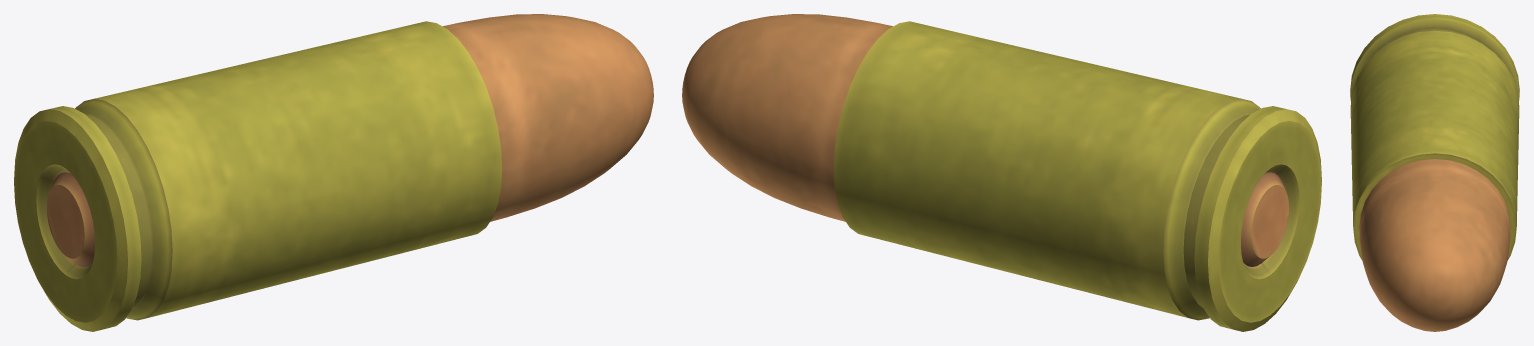
The model's file is dan1.fbx.
The picture shows the model from 3 angles, left to right: view 1: azimuth 30°, elevation 25°; view 2: azimuth 150°, elevation 25°; view 3: azimuth 270°, elevation 25°; orthographic projection. The views are drawn at different scales.
Parts seen in each view (by area): view 1: Bullet; view 2: Bullet; view 3: Bullet.
Part boxes in pixels (bbox=[...]): Bullet: bbox=[14, 14, 653, 331]; Bullet: bbox=[682, 14, 1321, 331]; Bullet: bbox=[1350, 14, 1519, 331].
Bounding box in the file's own units: 1.39 × 0.4756 × 0.4756.
